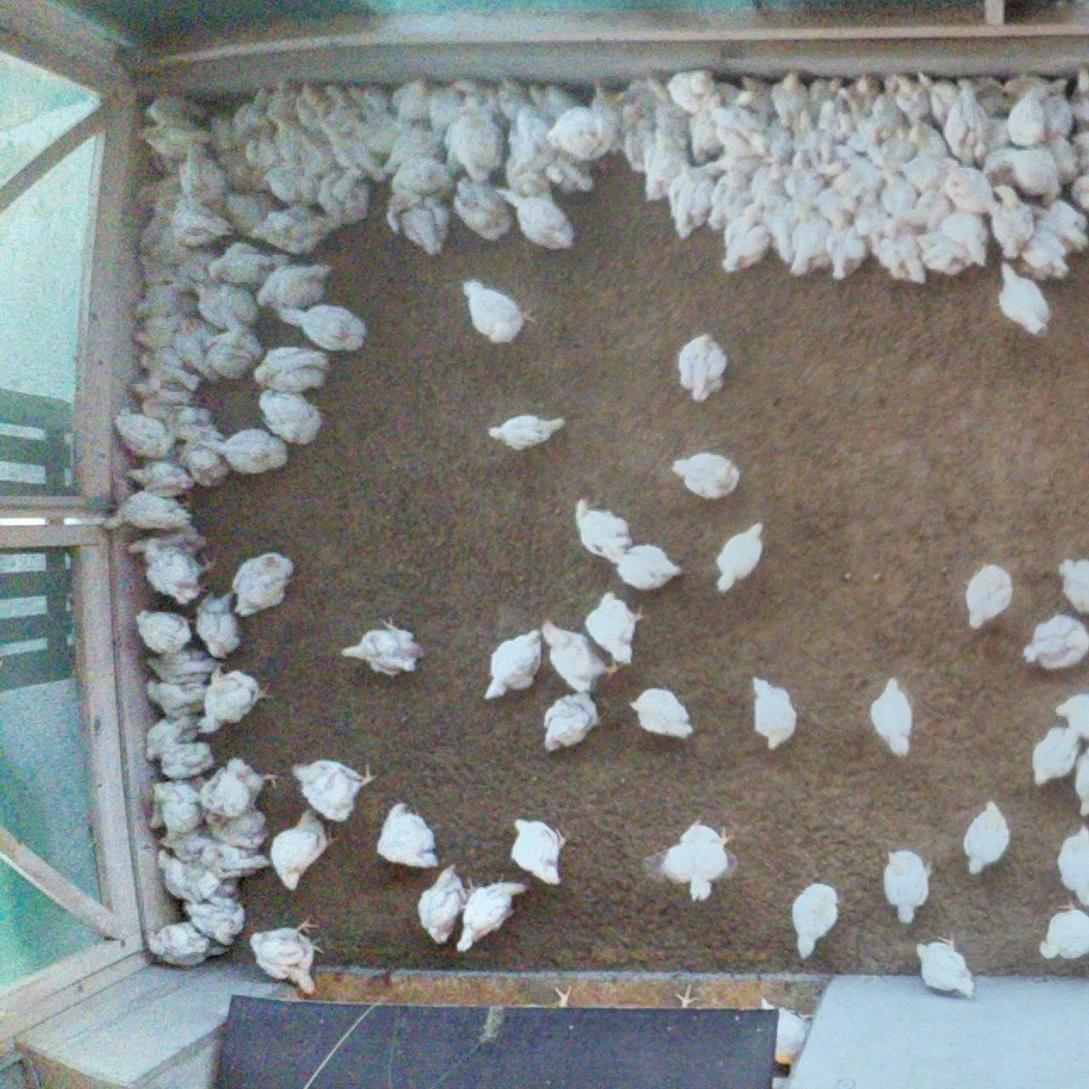chicken: (268, 809, 343, 896), (540, 617, 623, 693), (666, 814, 735, 905), (449, 879, 531, 955), (289, 756, 379, 823), (744, 992, 818, 1073), (335, 616, 425, 679), (494, 181, 577, 249), (250, 919, 319, 998), (272, 303, 371, 358), (463, 277, 538, 345), (200, 756, 282, 818), (582, 588, 646, 667), (97, 488, 196, 539), (197, 668, 274, 733), (666, 155, 724, 241), (141, 540, 217, 603), (866, 211, 928, 288), (416, 861, 472, 946), (786, 880, 844, 961), (485, 628, 547, 703), (602, 535, 682, 593), (374, 801, 442, 869), (992, 262, 1052, 339), (985, 178, 1040, 261), (245, 207, 340, 255), (230, 551, 295, 621), (255, 385, 326, 449), (383, 190, 452, 255), (879, 846, 933, 929), (256, 261, 336, 317), (672, 329, 730, 405), (868, 670, 918, 758), (154, 402, 231, 459), (444, 111, 504, 184), (943, 77, 993, 164), (573, 492, 635, 562), (200, 426, 290, 474), (710, 520, 767, 595), (207, 238, 294, 287), (909, 937, 981, 996), (707, 158, 764, 232), (1020, 194, 1089, 255), (1004, 145, 1071, 207), (190, 276, 268, 329), (318, 165, 376, 236), (148, 919, 230, 969), (544, 104, 617, 160), (500, 101, 561, 168), (160, 190, 235, 244), (719, 204, 772, 280), (959, 798, 1009, 878), (748, 673, 799, 751), (540, 691, 602, 754), (1018, 614, 1089, 669), (452, 176, 513, 239), (196, 328, 267, 382), (508, 814, 562, 885), (640, 129, 690, 205), (938, 153, 998, 216), (249, 346, 332, 391), (151, 779, 214, 838), (710, 103, 774, 161), (143, 643, 223, 689), (1049, 824, 1089, 916), (168, 310, 219, 381), (154, 850, 222, 903), (828, 141, 887, 202), (534, 136, 598, 192), (671, 451, 741, 502), (181, 891, 248, 944), (759, 196, 808, 268), (587, 78, 632, 156), (200, 804, 275, 850), (965, 563, 1016, 630), (176, 140, 232, 201), (322, 126, 383, 182), (132, 281, 206, 327), (385, 121, 448, 175), (168, 437, 233, 489), (789, 209, 837, 279), (619, 105, 669, 172), (667, 66, 730, 119), (796, 109, 847, 174), (113, 408, 172, 464), (496, 144, 556, 199), (481, 415, 570, 452), (631, 687, 693, 740), (767, 70, 817, 135), (876, 69, 936, 123), (939, 208, 991, 270), (899, 114, 951, 176), (680, 101, 731, 164), (196, 590, 243, 658), (1029, 723, 1078, 788), (914, 69, 969, 126), (778, 147, 826, 212), (837, 70, 889, 130), (134, 123, 211, 163), (637, 80, 693, 135), (261, 157, 321, 208), (123, 381, 199, 421), (1035, 909, 1089, 964), (1011, 226, 1069, 277), (522, 79, 587, 124), (1005, 83, 1048, 151), (198, 841, 269, 882), (135, 168, 198, 214), (423, 78, 475, 133), (1032, 78, 1076, 143), (129, 312, 188, 360), (123, 528, 211, 560), (872, 166, 927, 217), (341, 119, 412, 158), (716, 77, 769, 129), (283, 80, 328, 141), (740, 69, 788, 126), (830, 219, 872, 284), (133, 609, 195, 653), (974, 141, 1026, 193), (450, 74, 501, 127), (147, 675, 207, 720), (144, 716, 198, 766), (135, 352, 202, 392), (914, 230, 973, 275), (999, 67, 1048, 121), (123, 457, 189, 497), (138, 251, 215, 285), (854, 92, 902, 144), (319, 80, 363, 136), (962, 72, 1013, 120), (392, 156, 458, 193), (158, 741, 220, 780), (216, 189, 272, 232), (808, 184, 858, 232), (228, 85, 272, 139), (1053, 554, 1089, 620), (1047, 695, 1089, 750), (386, 76, 434, 123), (231, 135, 277, 184), (489, 73, 532, 125), (747, 122, 793, 170), (145, 94, 204, 131), (156, 833, 217, 868), (289, 128, 332, 177), (875, 125, 918, 174), (908, 182, 951, 231), (1041, 135, 1079, 190), (143, 215, 189, 260), (216, 141, 263, 185), (609, 79, 656, 122), (346, 83, 395, 124), (752, 163, 791, 213), (264, 116, 301, 168), (1065, 58, 1089, 137), (802, 74, 845, 118), (266, 77, 303, 127), (846, 192, 890, 234), (1063, 745, 1089, 816), (201, 109, 244, 151), (1069, 126, 1089, 184), (1066, 174, 1089, 215)
